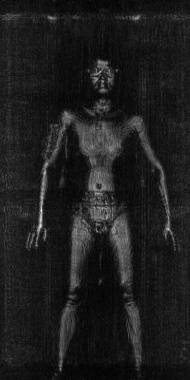gun: (36, 118, 61, 156)
